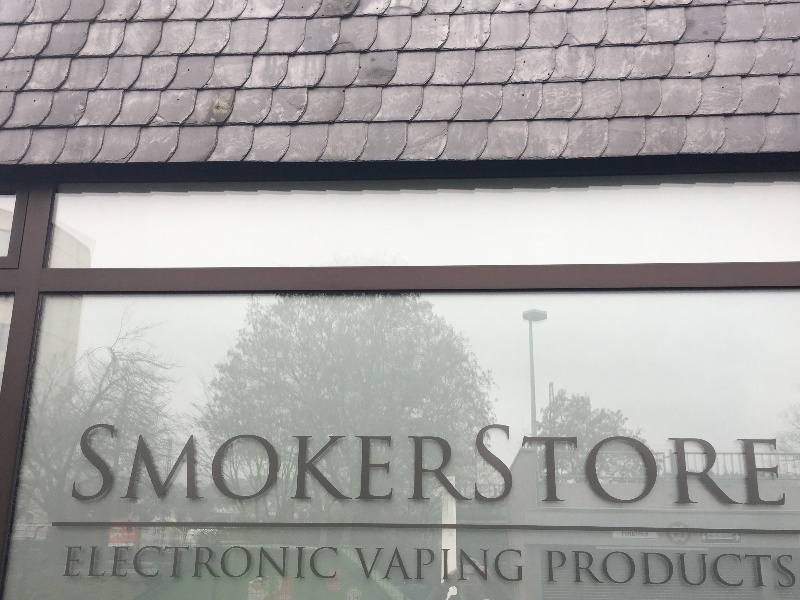text: (481, 424, 496, 509), (497, 424, 512, 509), (513, 424, 528, 509), (529, 424, 544, 509), (545, 424, 560, 509), (561, 424, 576, 509), (577, 424, 592, 509), (593, 424, 608, 509), (609, 424, 624, 509), (625, 424, 640, 509), (641, 424, 656, 509), (657, 424, 672, 509), (673, 424, 688, 509), (689, 424, 704, 509), (705, 424, 720, 509), (721, 424, 736, 509), (737, 424, 752, 509), (753, 424, 768, 509), (769, 424, 784, 509), (97, 424, 112, 504), (113, 424, 128, 504), (129, 424, 144, 504), (145, 424, 160, 504), (161, 424, 176, 504), (177, 424, 192, 504), (193, 424, 208, 504), (209, 424, 224, 504), (225, 424, 240, 504), (241, 424, 256, 504), (257, 424, 272, 504), (273, 424, 288, 504), (289, 424, 304, 504), (305, 424, 320, 504), (321, 424, 336, 504), (337, 424, 352, 504), (353, 424, 368, 504), (369, 424, 384, 504), (385, 424, 400, 504), (401, 424, 416, 504), (417, 424, 432, 504), (433, 424, 448, 504), (449, 424, 464, 504), (83, 424, 96, 504), (465, 424, 475, 504), (561, 551, 576, 589), (577, 551, 592, 589), (593, 551, 608, 589), (609, 551, 624, 589), (625, 551, 640, 589), (641, 551, 656, 589), (657, 551, 672, 589), (673, 551, 688, 589), (689, 551, 704, 589), (705, 551, 720, 589), (721, 551, 736, 589), (737, 551, 752, 589), (753, 551, 768, 589), (769, 551, 784, 589), (353, 547, 368, 584), (369, 547, 384, 584), (385, 547, 400, 584), (401, 547, 416, 584), (417, 547, 432, 584), (433, 547, 448, 584), (449, 547, 464, 584), (465, 547, 480, 584), (481, 547, 496, 584), (497, 547, 512, 584), (65, 546, 80, 581), (81, 546, 96, 581), (97, 546, 112, 581), (113, 546, 128, 581), (129, 546, 144, 581), (145, 546, 160, 581), (161, 546, 176, 581), (177, 546, 192, 581), (193, 546, 208, 581), (209, 546, 224, 581), (225, 546, 240, 581), (241, 546, 256, 581), (257, 546, 272, 581), (273, 546, 288, 581), (289, 546, 304, 581), (305, 546, 320, 581), (321, 546, 336, 581), (474, 424, 480, 509), (547, 551, 560, 589), (785, 551, 798, 589), (513, 547, 524, 584), (785, 424, 787, 509), (337, 546, 339, 581), (351, 547, 352, 584)
